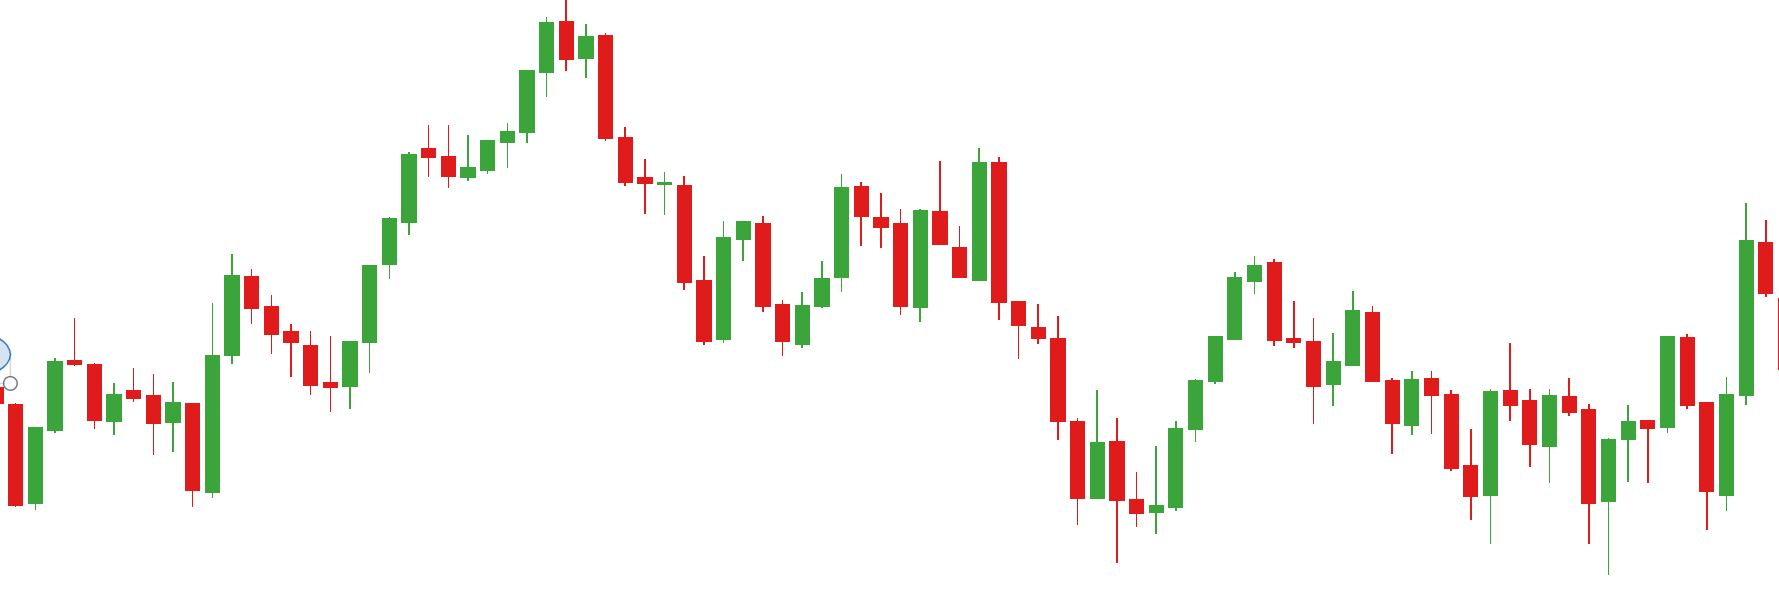buy: (1465, 407, 1621, 579)
sell: (832, 159, 952, 288)
